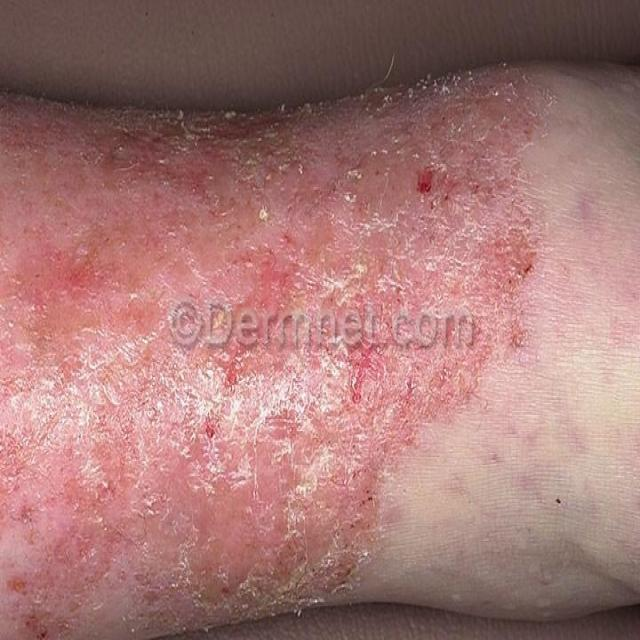Eczema: (0, 78, 542, 624)
